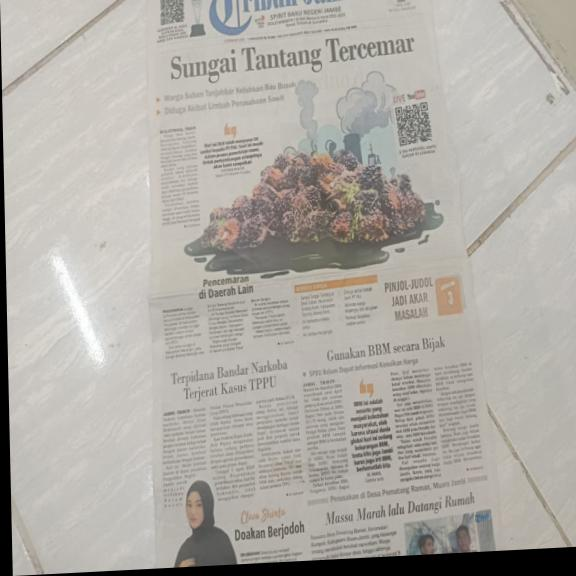Kertas: (156, 267, 498, 557), (146, 0, 465, 299), (158, 0, 430, 63), (162, 391, 306, 510)
